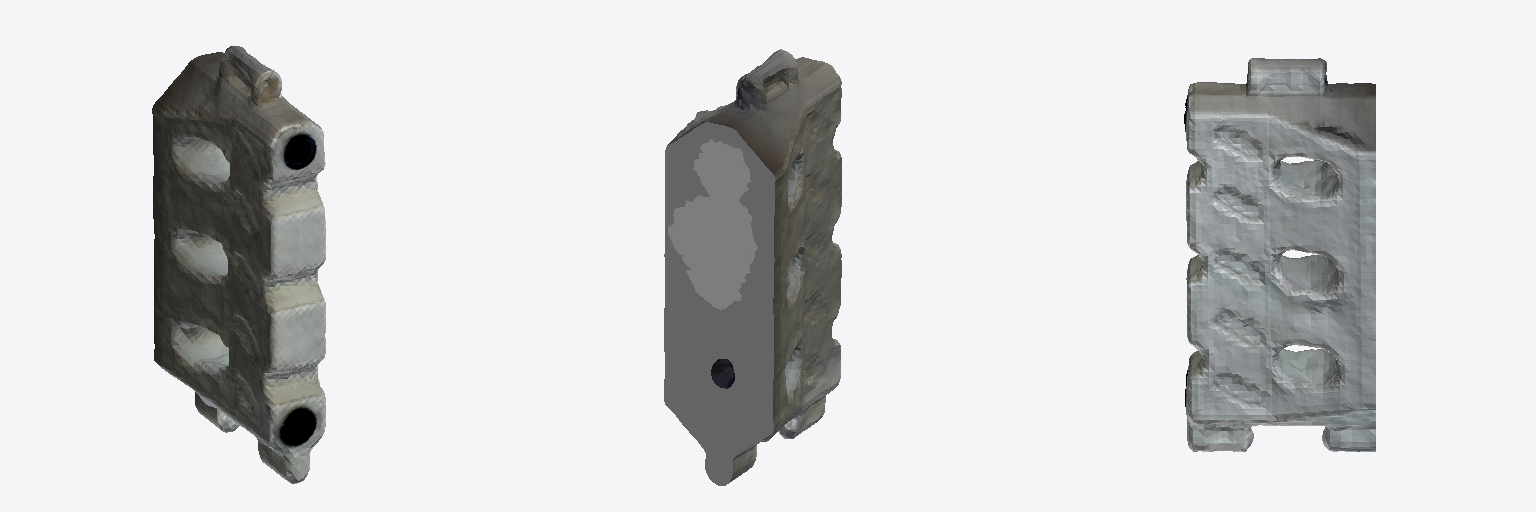
3 views of the same model, side by side, from view 1: azimuth 30°, elevation 25°; view 2: azimuth 150°, elevation 25°; view 3: azimuth 270°, elevation 25° (orthographic).
Parts seen in each view (by area): view 1: mmGroup0; view 2: mmGroup0, mmGroup2, mmGroup4, mmGroup5; view 3: mmGroup0.
Boxes of the visible parts, x1=… form: mmGroup0: x1=152, y1=46, x2=325, y2=483; mmGroup0: x1=667, y1=49, x2=841, y2=483; mmGroup2: x1=664, y1=122, x2=775, y2=485; mmGroup4: x1=674, y1=200, x2=751, y2=304; mmGroup5: x1=705, y1=151, x2=738, y2=192; mmGroup0: x1=1184, y1=58, x2=1375, y2=451.
Bounding box in the file's own units: 29.98 × 100 × 44.57.
2 materials, 2 textured.